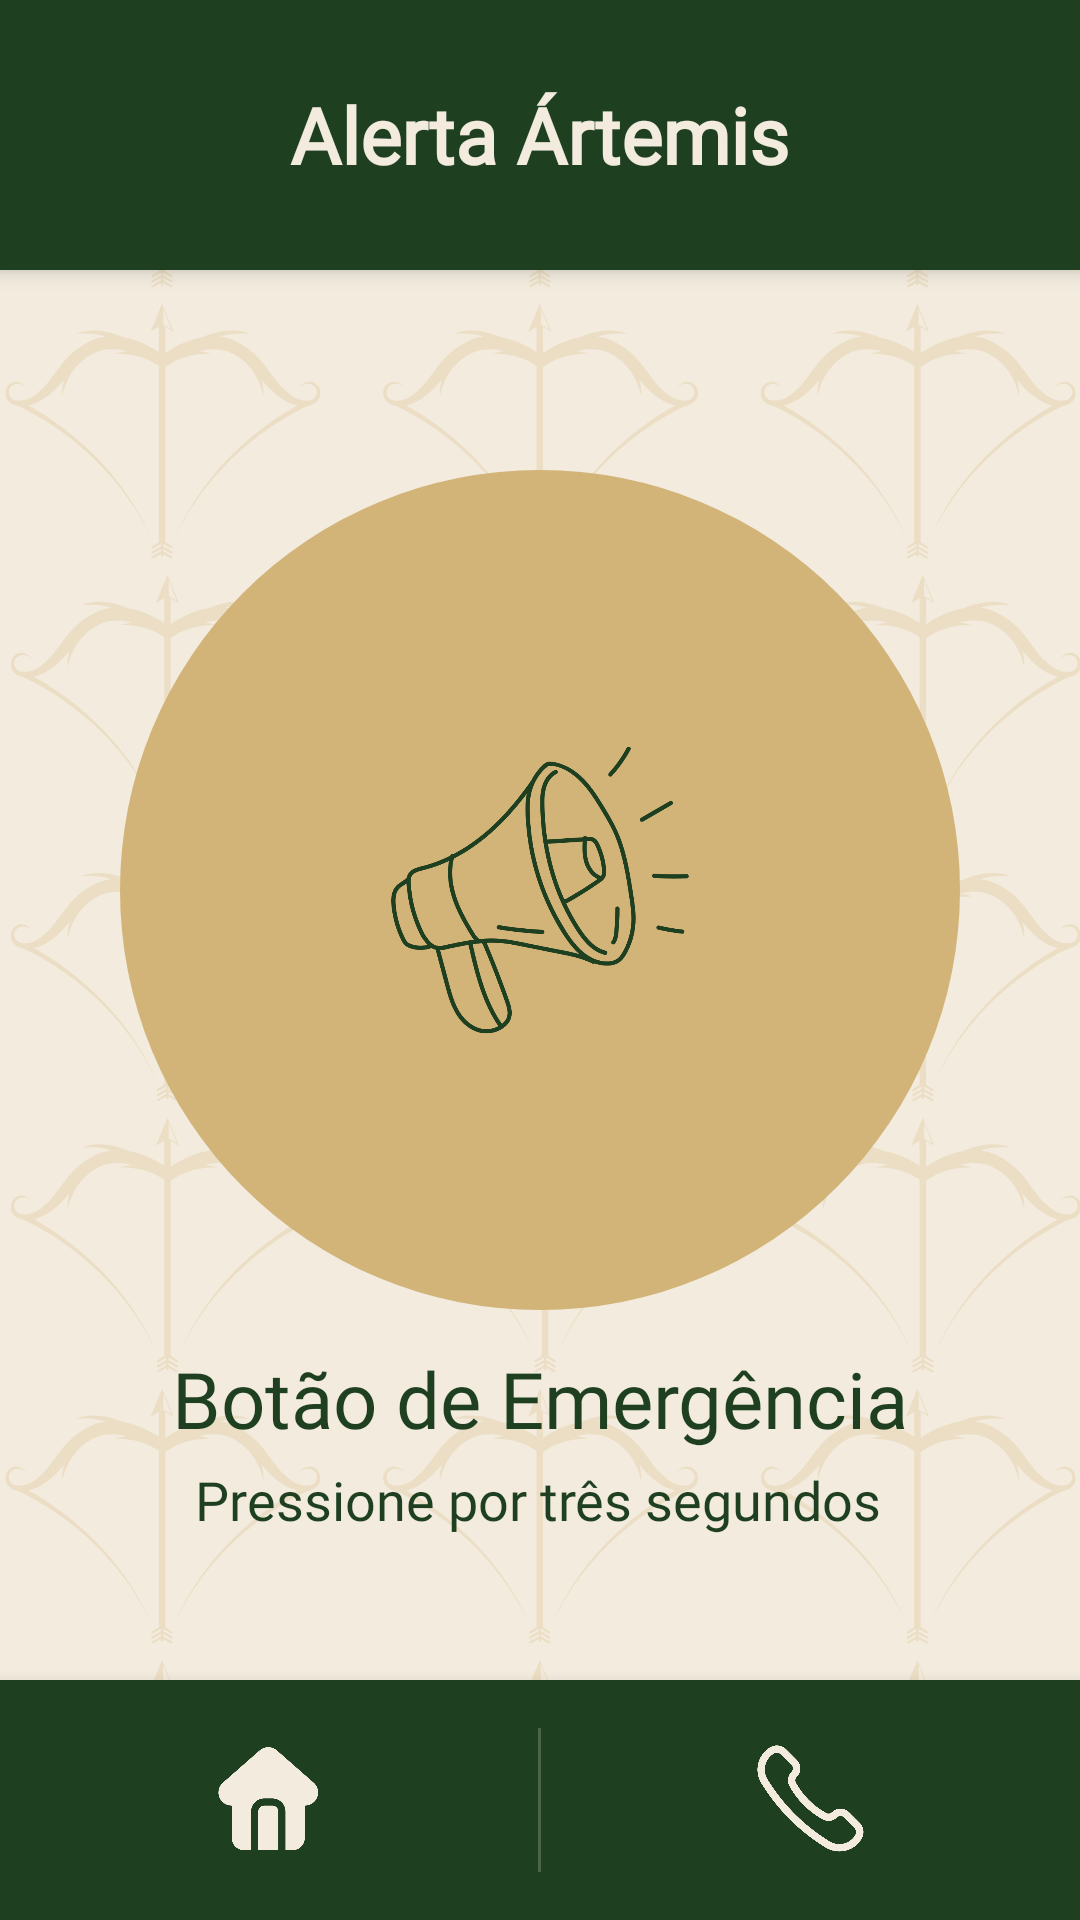

Where icons sit on this 1080 x 1920 app screen, as (x1, y1, x2, y2):
home: (218, 1747, 318, 1850)
phone unfilled: (757, 1745, 864, 1852)
